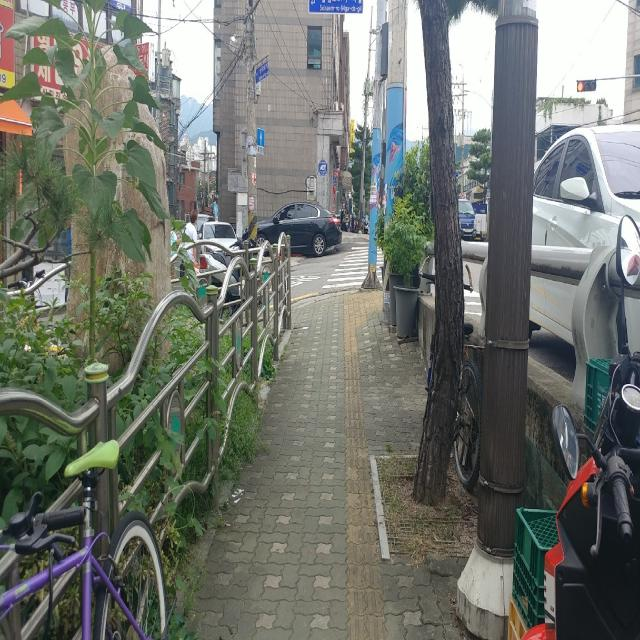횡단보도: (321, 247, 384, 290)
